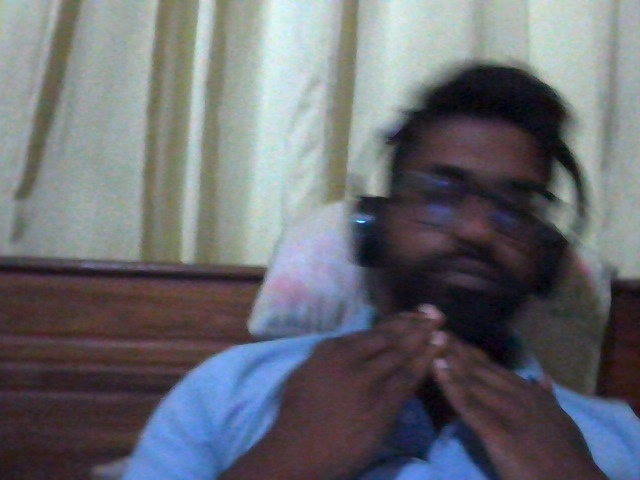Thank you: (170, 281, 640, 480)
